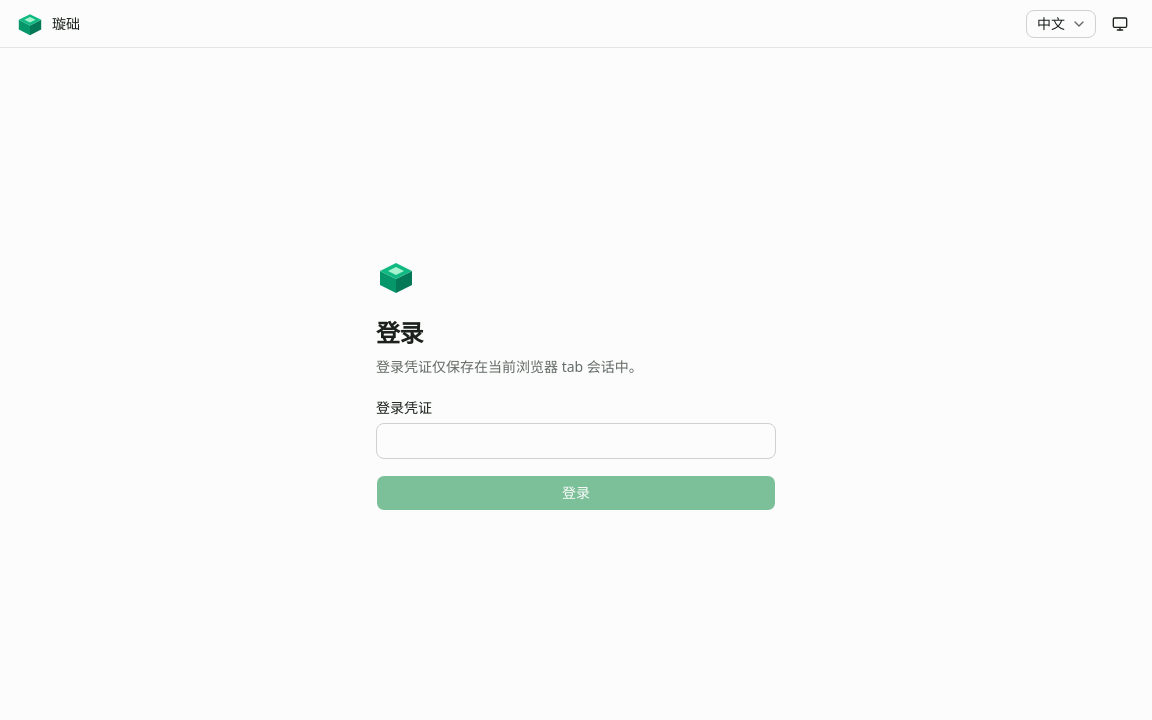
it: LoginPage › shows specific message for token_web_login_disabled error
Type "xuanchu_pat_sso" into the password field labelled "登录凭证".
click(576, 441); type("xuanchu_pat_sso")  # box [376,423,776,459]
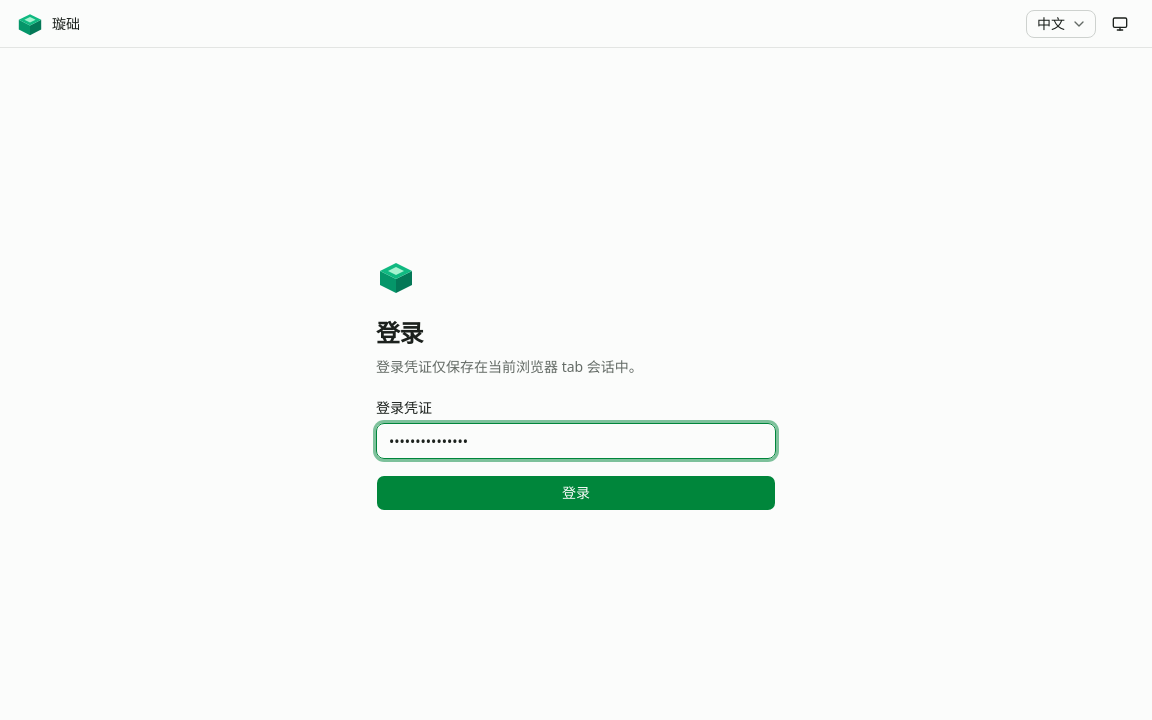
Click the button "登录".
click(576, 493)  # box [376,475,776,511]
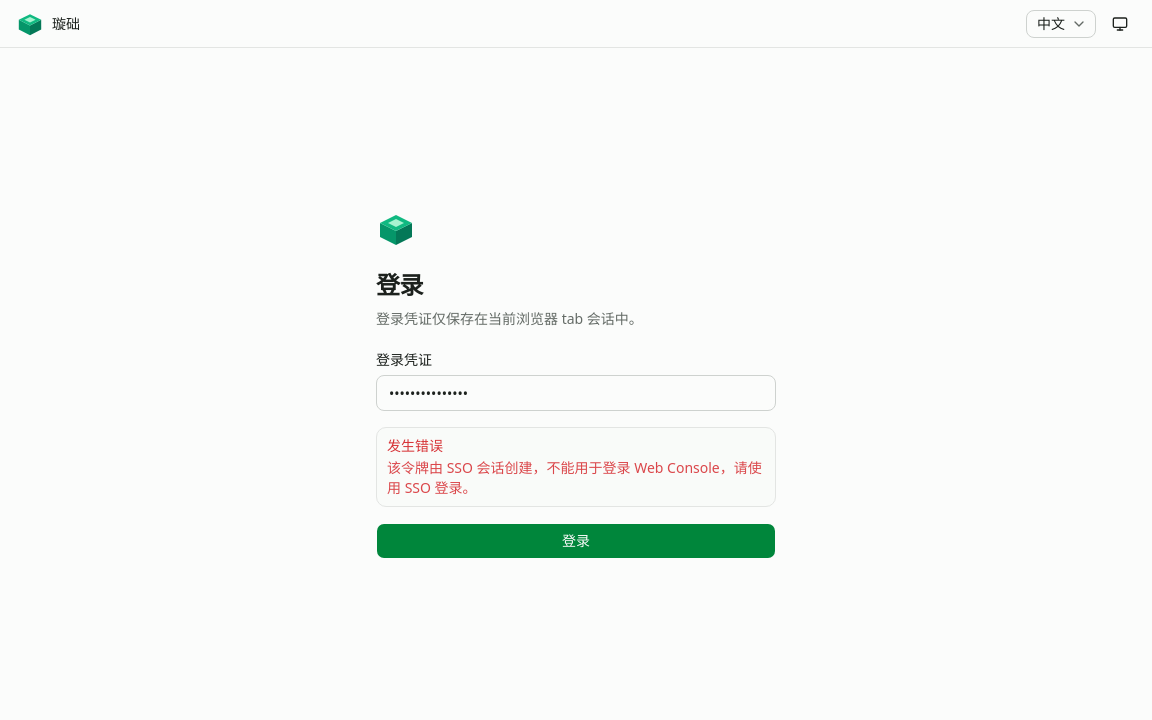
Result: the text "该令牌由 SSO 会话创建，不能用于登录 Web Console，请使用 SSO 登录。" is shown at [387,458,765,498]
